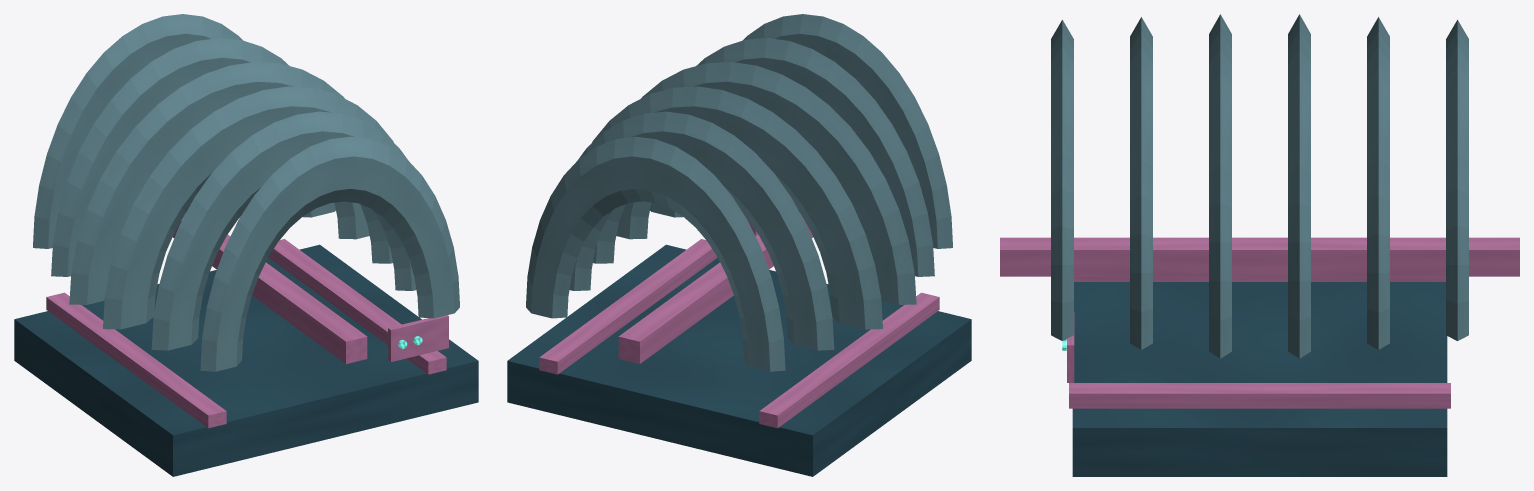
The model's file is atlas100-s061-a01.glb.
The picture shows the model from 3 angles, left to right: view 1: azimuth 30°, elevation 25°; view 2: azimuth 150°, elevation 25°; view 3: azimuth 270°, elevation 25°; orthographic projection. The views are drawn at different scales.
Visible parts, largest first — view 1: atlas100-s061-a01:part-000, atlas100-s061-a01:part-008, atlas100-s061-a01:part-006, atlas100-s061-a01:part-007, atlas100-s061-a01:part-005, atlas100-s061-a01:part-004, atlas100-s061-a01:part-003, atlas100-s061-a01:part-001, atlas100-s061-a01:part-009, atlas100-s061-a01:part-002, atlas100-s061-a01:part-010; view 2: atlas100-s061-a01:part-000, atlas100-s061-a01:part-003, atlas100-s061-a01:part-005, atlas100-s061-a01:part-004, atlas100-s061-a01:part-006, atlas100-s061-a01:part-007, atlas100-s061-a01:part-008, atlas100-s061-a01:part-001, atlas100-s061-a01:part-002, atlas100-s061-a01:part-009; view 3: atlas100-s061-a01:part-000, atlas100-s061-a01:part-009, atlas100-s061-a01:part-002, atlas100-s061-a01:part-005, atlas100-s061-a01:part-006, atlas100-s061-a01:part-004, atlas100-s061-a01:part-007, atlas100-s061-a01:part-003, atlas100-s061-a01:part-008, atlas100-s061-a01:part-001.
Part boxes in pixels (x1,y1,x2,y2): atlas100-s061-a01:part-000: (14, 244, 478, 476); atlas100-s061-a01:part-008: (200, 136, 459, 371); atlas100-s061-a01:part-006: (103, 86, 394, 329); atlas100-s061-a01:part-007: (151, 111, 416, 350); atlas100-s061-a01:part-005: (69, 62, 369, 304); atlas100-s061-a01:part-004: (51, 38, 335, 276); atlas100-s061-a01:part-003: (33, 14, 242, 248); atlas100-s061-a01:part-001: (46, 292, 226, 428); atlas100-s061-a01:part-009: (173, 213, 367, 363); atlas100-s061-a01:part-002: (268, 239, 446, 374); atlas100-s061-a01:part-010: (388, 315, 448, 361); atlas100-s061-a01:part-000: (507, 244, 971, 476); atlas100-s061-a01:part-003: (526, 136, 785, 371); atlas100-s061-a01:part-005: (591, 86, 882, 329); atlas100-s061-a01:part-004: (569, 111, 834, 350); atlas100-s061-a01:part-006: (616, 62, 916, 304); atlas100-s061-a01:part-007: (650, 38, 934, 276); atlas100-s061-a01:part-008: (743, 14, 952, 248); atlas100-s061-a01:part-001: (759, 292, 939, 428); atlas100-s061-a01:part-002: (539, 239, 717, 374); atlas100-s061-a01:part-009: (618, 213, 812, 363); atlas100-s061-a01:part-000: (1072, 282, 1447, 476); atlas100-s061-a01:part-009: (1000, 237, 1519, 276); atlas100-s061-a01:part-002: (1069, 383, 1450, 408); atlas100-s061-a01:part-005: (1288, 14, 1310, 358); atlas100-s061-a01:part-006: (1209, 14, 1231, 358); atlas100-s061-a01:part-004: (1367, 17, 1389, 349); atlas100-s061-a01:part-007: (1130, 17, 1152, 349); atlas100-s061-a01:part-003: (1446, 20, 1468, 340); atlas100-s061-a01:part-008: (1051, 20, 1073, 340); atlas100-s061-a01:part-001: (1074, 276, 1445, 281).
Bounding box in the file's own units: 2.1 × 1.9 × 2.5.
4 materials, 4 textured.
